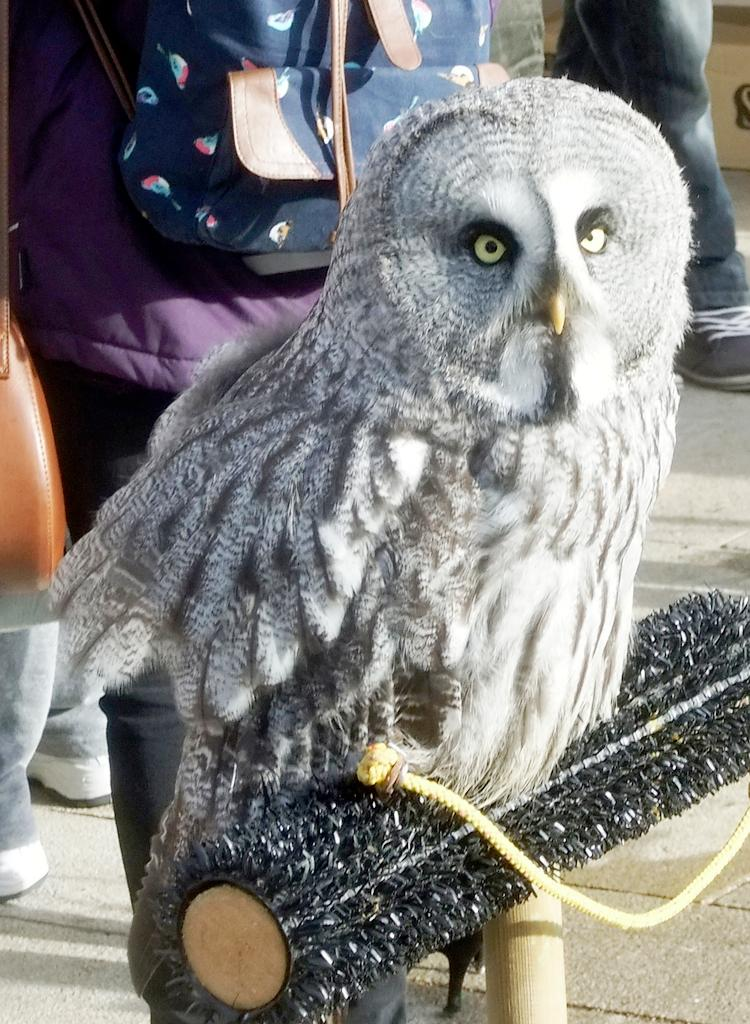Owl: (32, 65, 695, 917)
